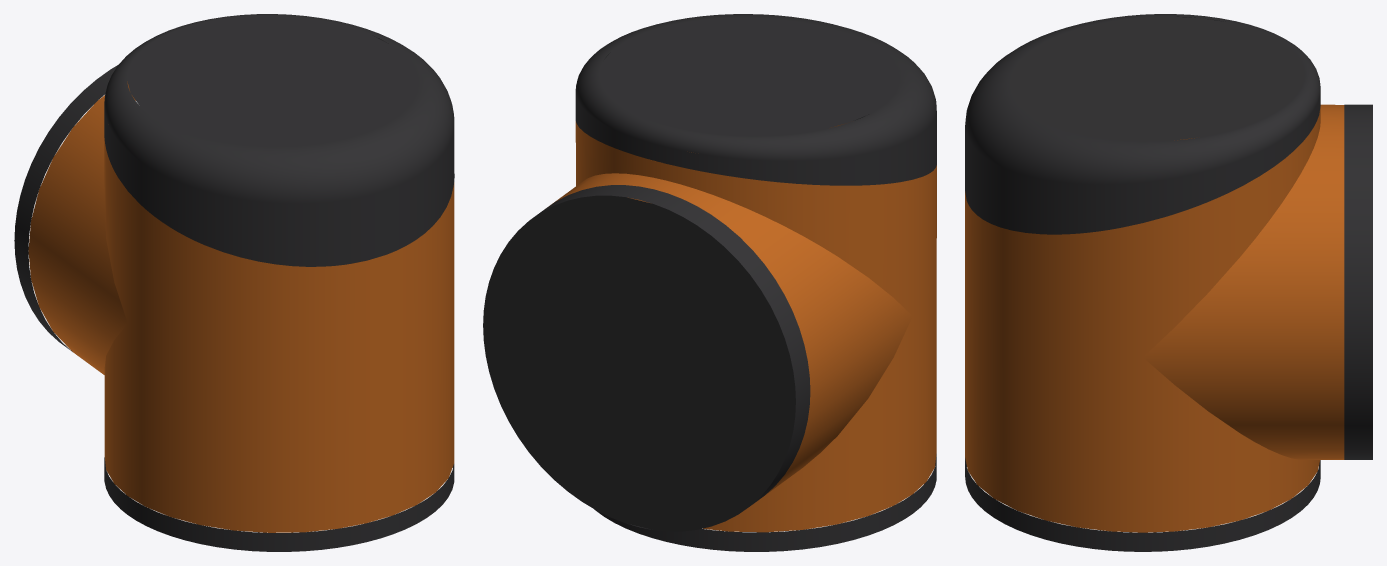
The picture shows the model from 3 angles, left to right: view 1: azimuth 30°, elevation 25°; view 2: azimuth 150°, elevation 25°; view 3: azimuth 270°, elevation 25°; orthographic projection. The views are drawn at different scales.
Parts seen in each view (by area): view 1: NONE-DC_Shell_ncl1_3, NONE-DC_Shell, NONE-DC_Shell_ncl1_1, NONE-DC_Shell_ncl1_2; view 2: NONE-DC_Shell_ncl1_5, NONE-DC_Shell_ncl1_3, NONE-DC_Shell, NONE-DC_Shell_ncl1_2, NONE-DC_Shell_ncl1_1; view 3: NONE-DC_Shell_ncl1_3, NONE-DC_Shell, NONE-DC_Shell_ncl1_2, NONE-DC_Shell_ncl1_1.
Boxes of the visible parts, bbox=[...] form: NONE-DC_Shell_ncl1_3: bbox=[28, 81, 454, 532]; NONE-DC_Shell: bbox=[104, 14, 454, 266]; NONE-DC_Shell_ncl1_1: bbox=[104, 457, 454, 551]; NONE-DC_Shell_ncl1_2: bbox=[14, 65, 117, 351]; NONE-DC_Shell_ncl1_5: bbox=[483, 195, 795, 531]; NONE-DC_Shell_ncl1_3: bbox=[550, 121, 936, 532]; NONE-DC_Shell: bbox=[575, 14, 936, 185]; NONE-DC_Shell_ncl1_2: bbox=[533, 185, 810, 529]; NONE-DC_Shell_ncl1_1: bbox=[594, 454, 936, 551]; NONE-DC_Shell_ncl1_3: bbox=[965, 104, 1344, 532]; NONE-DC_Shell: bbox=[965, 14, 1320, 234]; NONE-DC_Shell_ncl1_2: bbox=[1344, 104, 1372, 459]; NONE-DC_Shell_ncl1_1: bbox=[965, 458, 1320, 551].
Size of the model in its own units: 0.116 by 0.133 by 0.1448.
